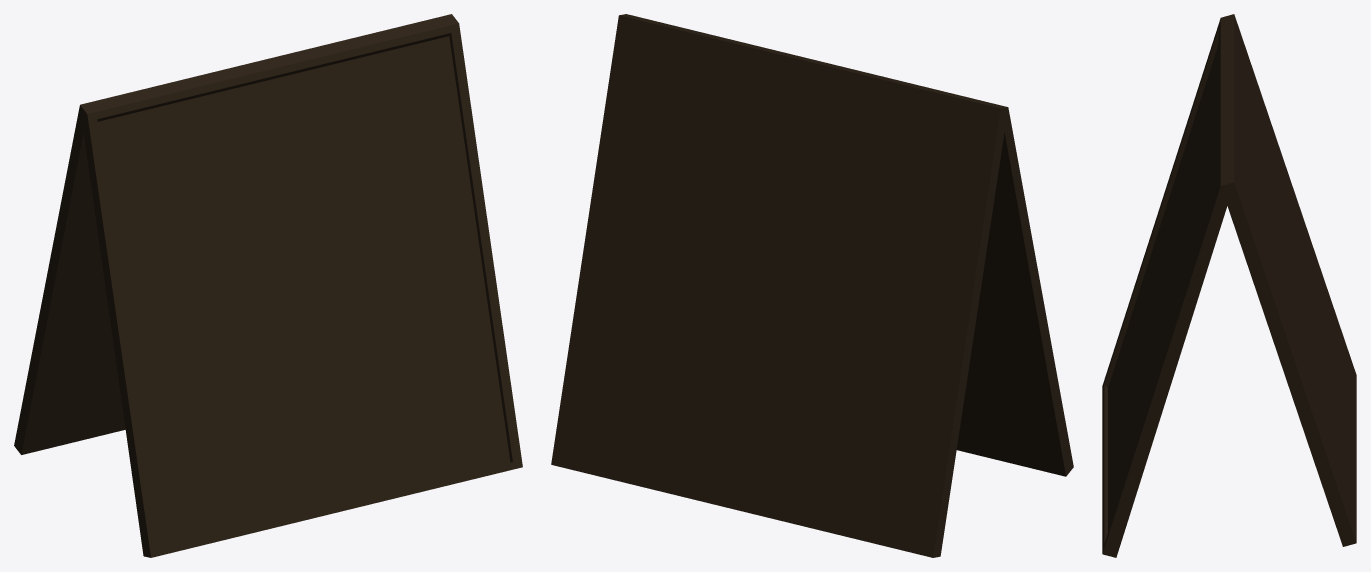
File: Sign.fbx
3 views of the same model, side by side, from view 1: azimuth 30°, elevation 25°; view 2: azimuth 150°, elevation 25°; view 3: azimuth 270°, elevation 25° (orthographic). The views are drawn at different scales.
Parts seen in each view (by area): view 1: Box008; view 2: Box008; view 3: Box008.
Boxes of the visible parts, left/top/right/bottom form: Box008: left=14, top=14, right=522, bottom=557; Box008: left=551, top=14, right=1073, bottom=557; Box008: left=1102, top=14, right=1356, bottom=557.
Size of the model in its own units: 9.78 by 10.18 by 6.24.
